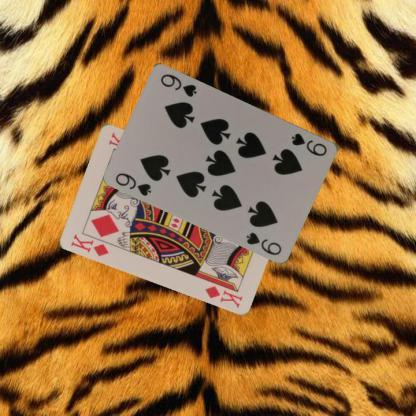9s: (112, 170, 154, 198), (288, 130, 329, 158)
Kd: (69, 231, 110, 258)
